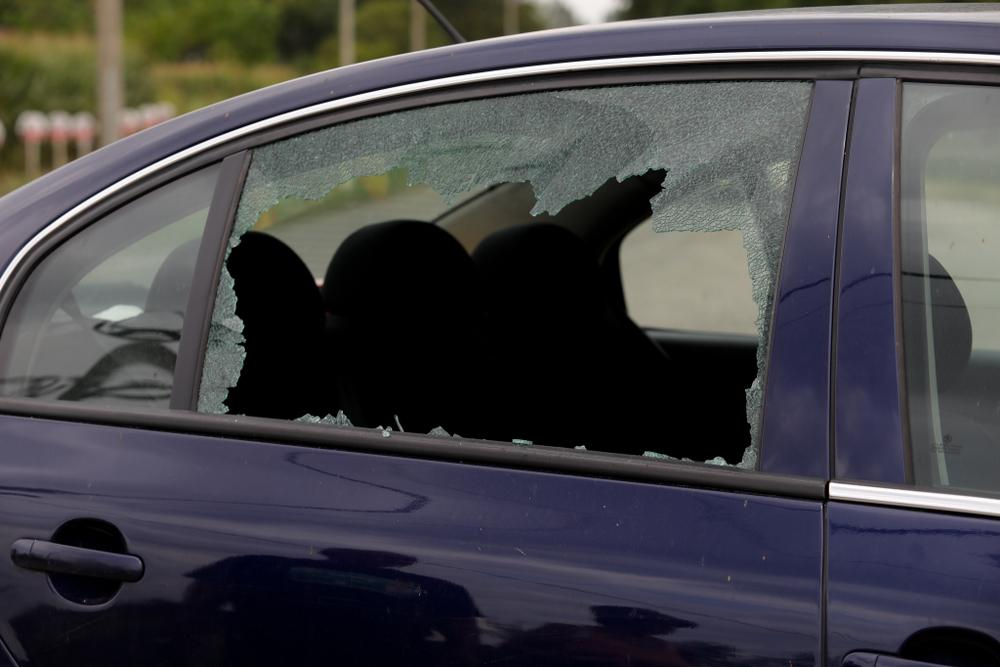glass shatter: (194, 81, 813, 469)
